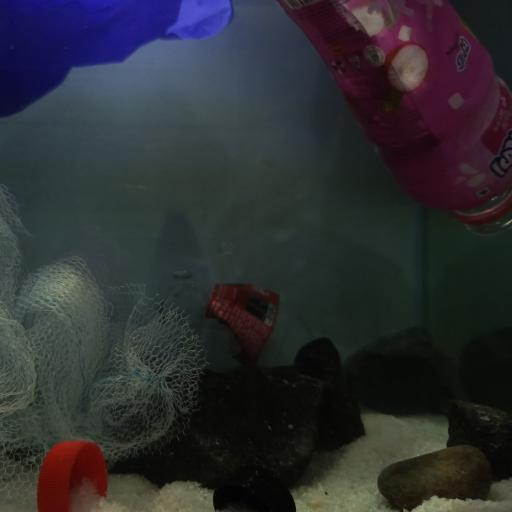bottle_cap: (38, 438, 110, 512), (213, 463, 297, 512)
glove: (1, 0, 238, 118)
net: (2, 171, 204, 488)
plastic_bottle: (277, 0, 512, 230), (160, 268, 316, 370)
